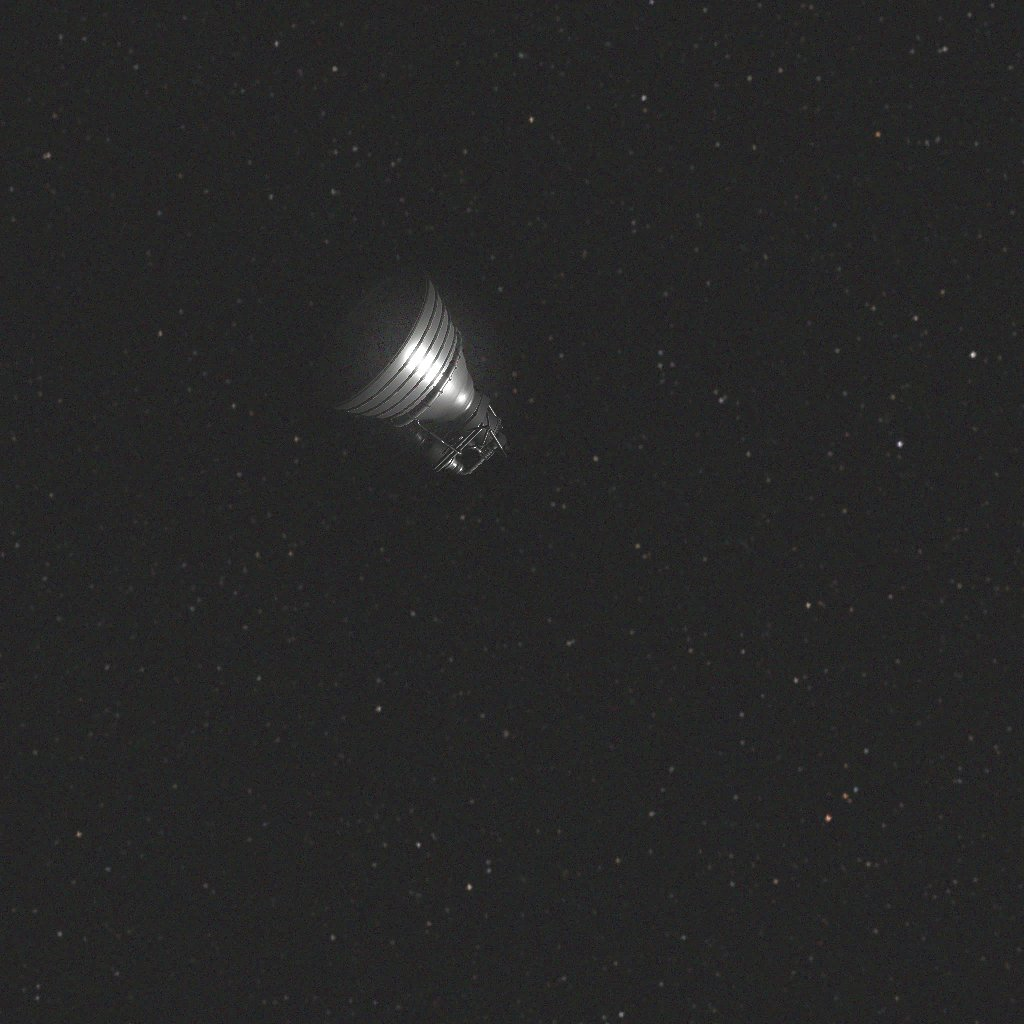debris: (313, 265, 507, 475)
